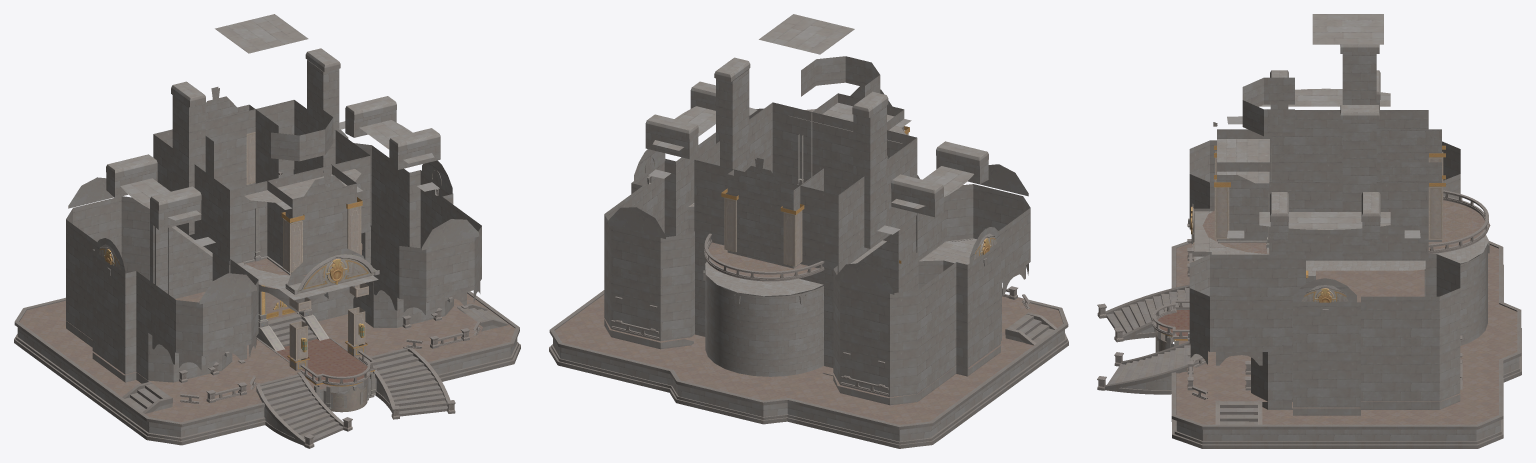
File: Homeworld_Exterior_Fd_Build_Mainhouse_02_Lod0.fbx
3 renders of one model, left to right at view 1: azimuth 30°, elevation 25°; view 2: azimuth 150°, elevation 25°; view 3: azimuth 270°, elevation 25°, orthographic. The views are drawn at different scales.
Parts seen in each view (by area): view 1: Homeworld_Exterior_Fd_Build_Mainhouse_02_Lod0; view 2: Homeworld_Exterior_Fd_Build_Mainhouse_02_Lod0; view 3: Homeworld_Exterior_Fd_Build_Mainhouse_02_Lod0.
Part boxes in pixels (x1,y1,x2,y2): Homeworld_Exterior_Fd_Build_Mainhouse_02_Lod0: (14, 14, 520, 448); Homeworld_Exterior_Fd_Build_Mainhouse_02_Lod0: (549, 14, 1068, 448); Homeworld_Exterior_Fd_Build_Mainhouse_02_Lod0: (1097, 14, 1521, 448).
Size of the model in its own units: 42.48 by 33.61 by 39.95.
